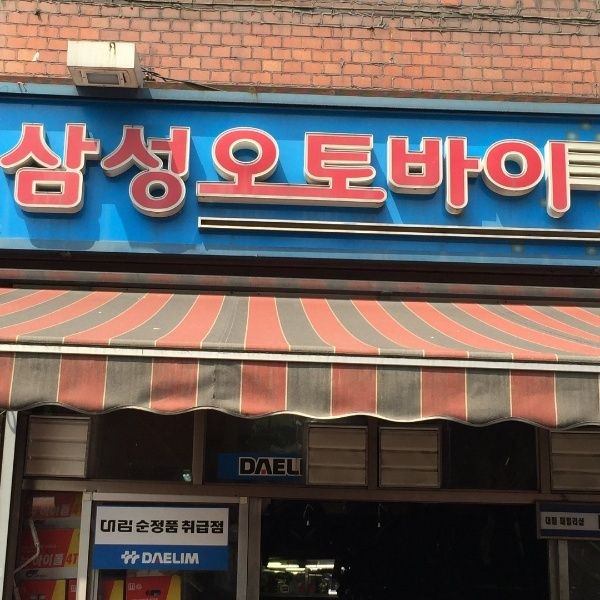text: (1, 117, 16, 223), (17, 117, 32, 223), (33, 117, 48, 223), (49, 117, 64, 223), (65, 117, 80, 223), (81, 117, 96, 223), (97, 117, 112, 223), (113, 117, 128, 223), (129, 117, 144, 223), (145, 117, 160, 223), (161, 117, 176, 223), (177, 117, 192, 223), (193, 117, 208, 223), (209, 117, 224, 223), (225, 117, 240, 223), (241, 117, 256, 223), (257, 117, 272, 223), (273, 117, 288, 223), (289, 117, 304, 223), (305, 117, 320, 223), (321, 117, 336, 223), (337, 117, 352, 223), (353, 117, 368, 223), (369, 117, 384, 223), (385, 117, 400, 223), (401, 117, 416, 223), (417, 117, 432, 223), (433, 117, 448, 223), (449, 117, 464, 223), (465, 117, 480, 223), (481, 117, 496, 223), (497, 117, 512, 223), (513, 117, 528, 223), (529, 117, 544, 223), (545, 117, 560, 223), (561, 117, 574, 223), (33, 498, 48, 522), (49, 498, 64, 522), (241, 456, 256, 477), (257, 456, 272, 477), (273, 456, 288, 477), (289, 456, 304, 477), (193, 520, 208, 535), (209, 520, 224, 535), (113, 519, 128, 533), (145, 520, 160, 534), (161, 520, 176, 534), (33, 554, 48, 567), (49, 554, 64, 567), (145, 552, 160, 565), (161, 552, 176, 565), (177, 552, 192, 565), (65, 498, 73, 522), (25, 498, 32, 522), (101, 519, 112, 533), (182, 520, 192, 535), (561, 517, 576, 527), (68, 553, 80, 565), (546, 517, 560, 526), (137, 520, 144, 534), (193, 552, 200, 565), (129, 584, 144, 590), (577, 517, 585, 527), (129, 519, 133, 533), (177, 520, 179, 534), (142, 552, 144, 565), (239, 456, 240, 477)
